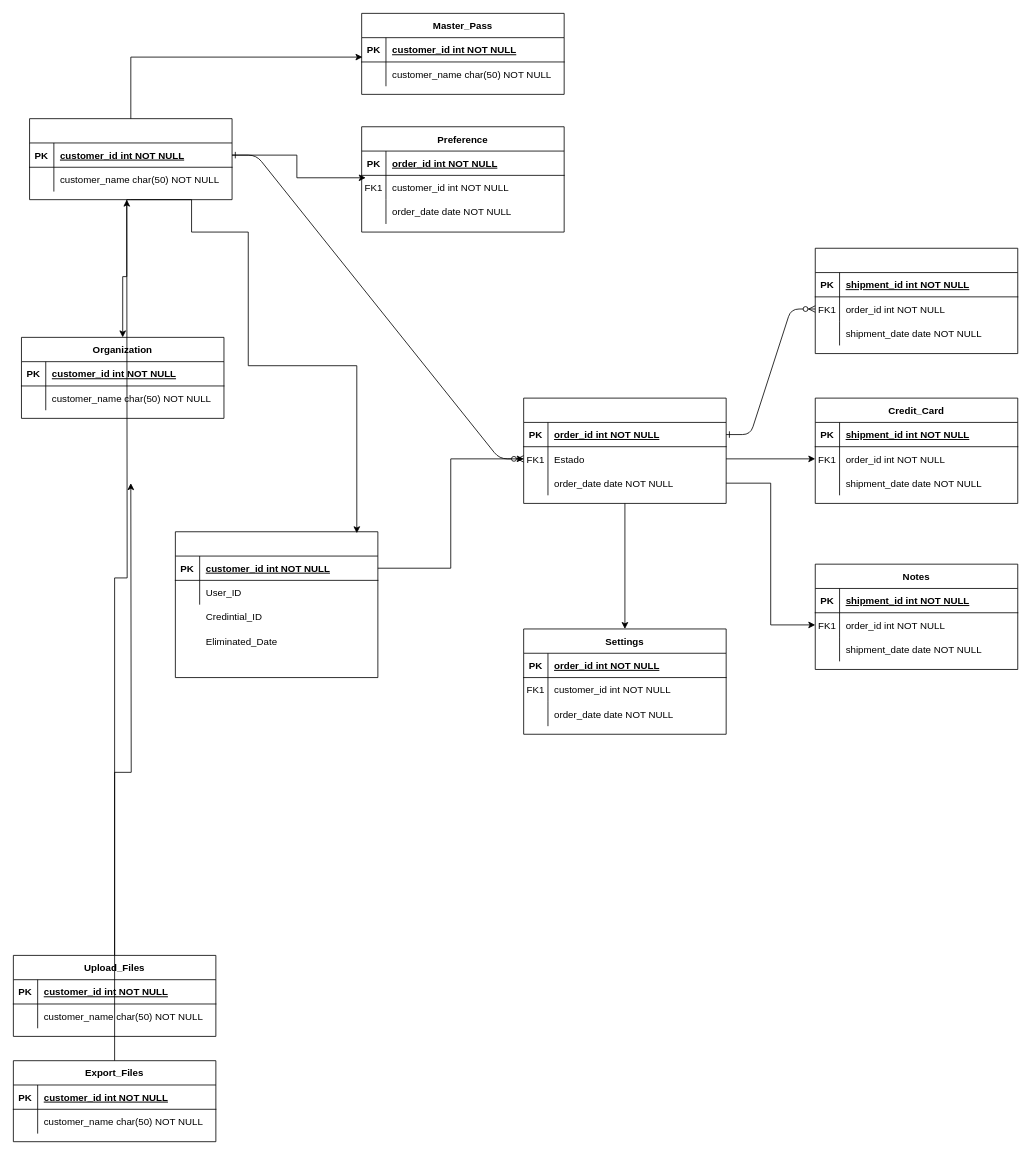
Some shapes in this 1031 by 1155 pixel diagram are drawn without their labels. Each missing label, with the box of its shape:
Credentials: (523, 397, 726, 503)
Password: (814, 247, 1018, 354)
Trash_Can: (175, 531, 378, 678)
User: (29, 118, 232, 200)
